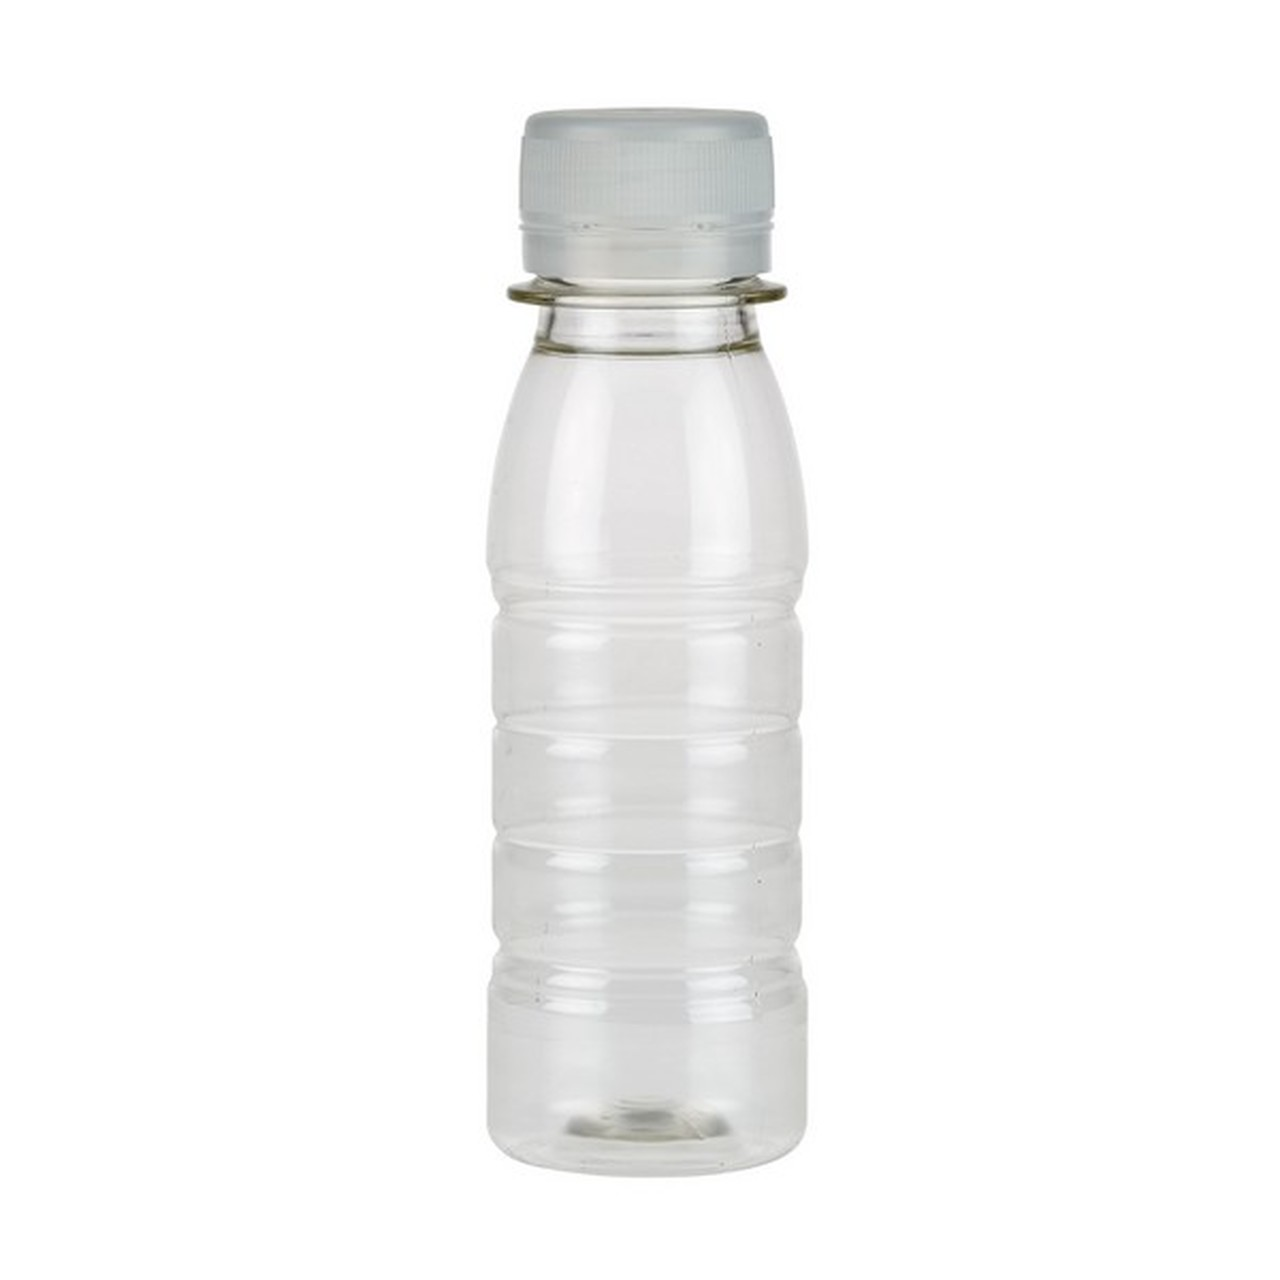HDPE: (516, 108, 778, 278)
PET: (489, 302, 809, 1175)
